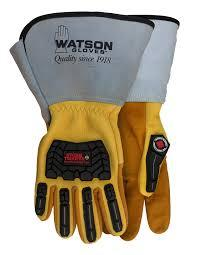gloves: (8, 10, 155, 245), (117, 14, 181, 242)
